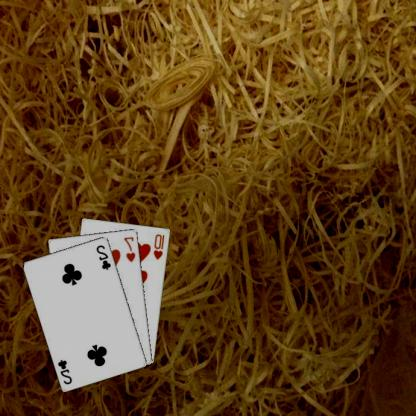10H: (152, 232, 168, 260)
2C: (57, 357, 76, 385), (96, 242, 114, 271)
7H: (123, 234, 139, 263)
